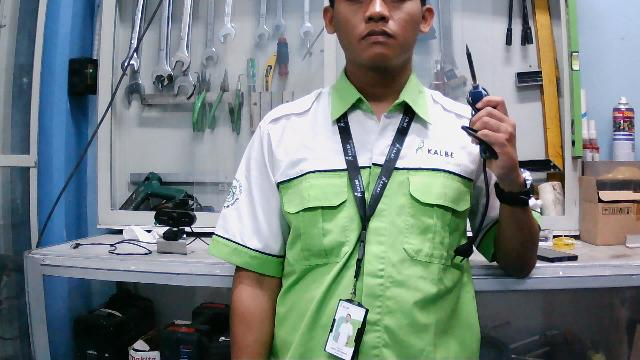solder_electrical: (451, 41, 501, 271)
